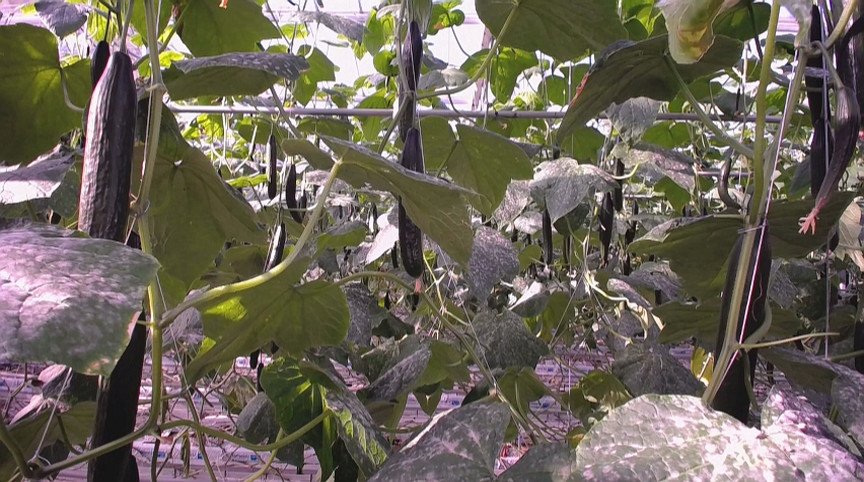cucumber: (708, 224, 773, 417), (75, 52, 137, 240), (86, 314, 146, 482), (399, 129, 424, 278), (397, 22, 425, 136), (264, 223, 289, 271), (286, 164, 303, 224), (597, 194, 611, 262), (265, 135, 278, 200), (539, 209, 554, 265)
